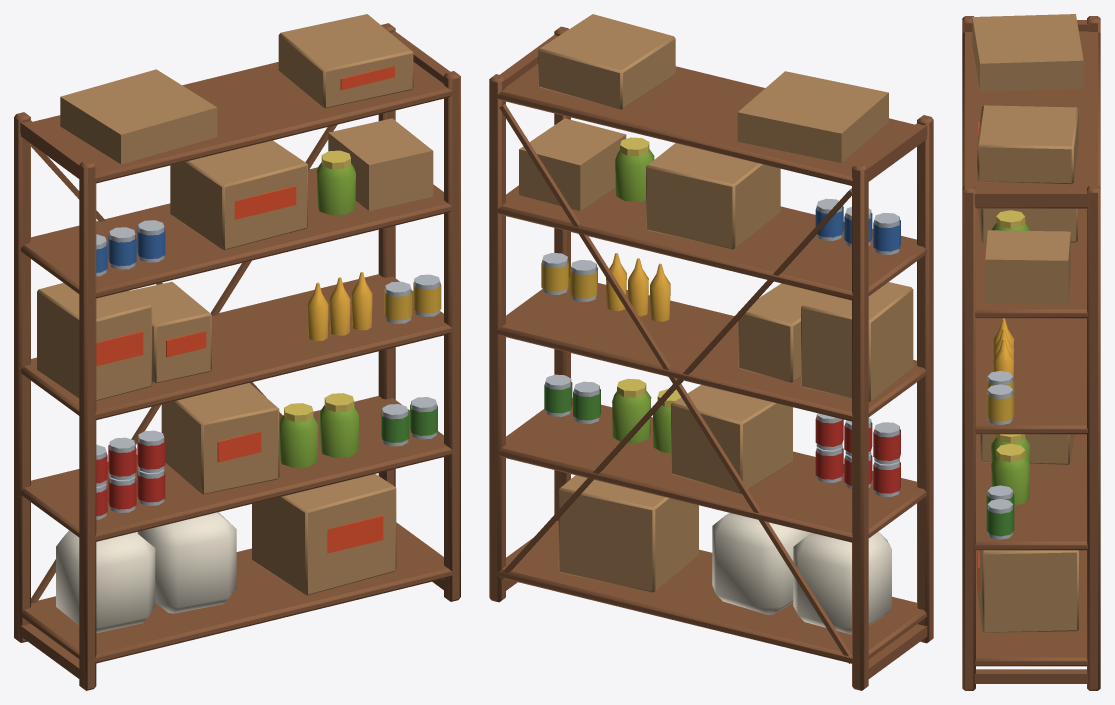
File: Shop_PantryShelf.fbx
The picture shows the model from 3 angles, left to right: view 1: azimuth 30°, elevation 25°; view 2: azimuth 150°, elevation 25°; view 3: azimuth 270°, elevation 25°; orthographic projection. The views are drawn at different scales.
Visible parts, largest first — view 1: Wood, Boxes, Sacks, Labels, Jars, CanMetal, CansRed, Bottles, CansBlue, Lids, CansYellow, CansGreen; view 2: Wood, Boxes, Sacks, CanMetal, Jars, CansRed, Bottles, CansBlue, CansGreen, CansYellow, Lids; view 3: Wood, Boxes, Jars, CanMetal, Lids, Bottles, CansGreen, CansYellow.
Boxes of the visible parts, bbox=[...] form: Wood: bbox=[14, 23, 460, 690]; Boxes: bbox=[37, 14, 433, 595]; Sacks: bbox=[56, 512, 236, 633]; Labels: bbox=[96, 66, 394, 553]; Jars: bbox=[279, 162, 358, 467]; CanMetal: bbox=[96, 220, 440, 519]; CansRed: bbox=[96, 438, 165, 516]; Bottles: bbox=[307, 272, 372, 341]; CansBlue: bbox=[96, 228, 165, 272]; Lids: bbox=[284, 150, 354, 421]; CansYellow: bbox=[384, 282, 441, 320]; CansGreen: bbox=[381, 404, 437, 442]; Wood: bbox=[489, 26, 933, 690]; Boxes: bbox=[519, 14, 913, 592]; Sacks: bbox=[712, 513, 891, 634]; CanMetal: bbox=[542, 198, 899, 497]; Jars: bbox=[612, 149, 670, 452]; CansRed: bbox=[815, 417, 900, 493]; Bottles: bbox=[606, 253, 670, 321]; CansBlue: bbox=[815, 206, 900, 251]; CansGreen: bbox=[544, 382, 600, 420]; CansYellow: bbox=[541, 260, 597, 298]; Lids: bbox=[617, 137, 680, 407]; Wood: bbox=[962, 16, 1100, 690]; Boxes: bbox=[972, 14, 1083, 633]; Jars: bbox=[991, 223, 1029, 505]; CanMetal: bbox=[987, 371, 1012, 539]; Lids: bbox=[996, 210, 1025, 462]; Bottles: bbox=[993, 318, 1014, 378]; CansGreen: bbox=[986, 494, 1014, 536]; CansYellow: bbox=[986, 379, 1014, 421].
Size of the model in its own units: 600 by 842 by 200.
